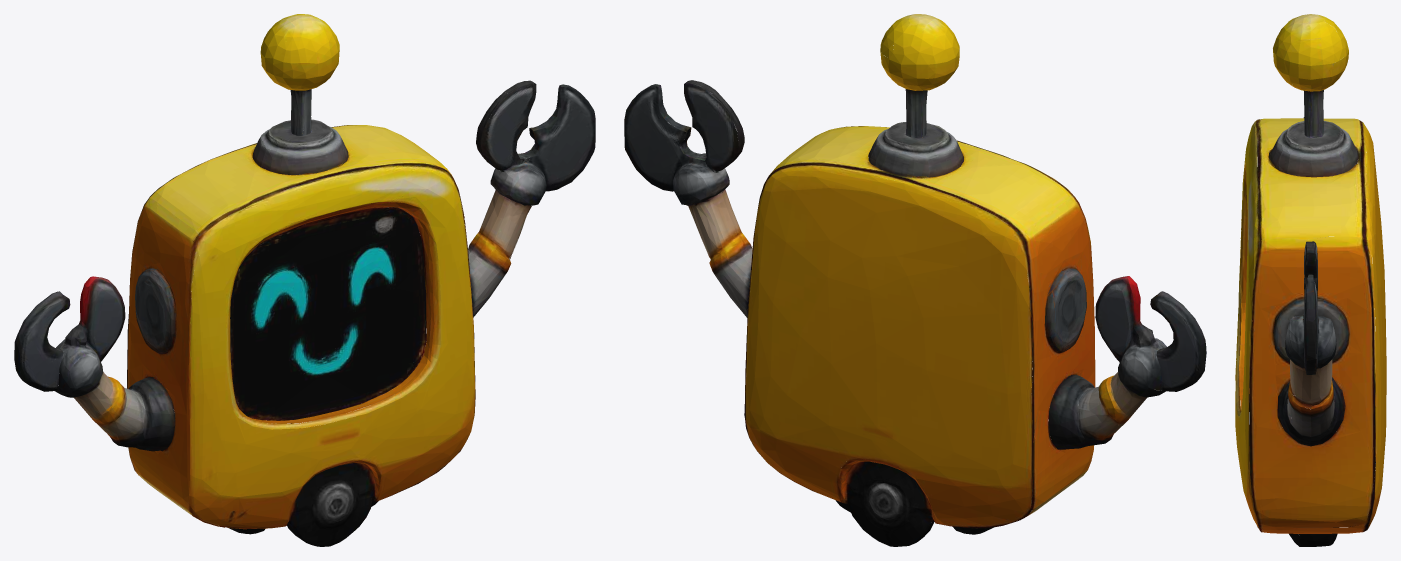
Rendered from char-Gizmo.glb.
3 views of the same model, side by side, from view 1: azimuth 30°, elevation 25°; view 2: azimuth 150°, elevation 25°; view 3: azimuth 270°, elevation 25° (orthographic).
Visible parts, largest first — view 1: geometry_0.007; view 2: geometry_0.007; view 3: geometry_0.007.
Boxes of the visible parts, x1,y1,x2,y2 form: geometry_0.007: (14,14,595,546); geometry_0.007: (624,14,1206,546); geometry_0.007: (1235,14,1386,546).
Bounding box in the file's own units: 1 × 0.8481 × 0.2292.
Materials: 1 (1 with a texture image).
